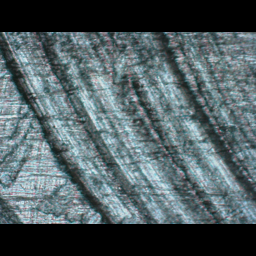d: (4, 32, 255, 221)
